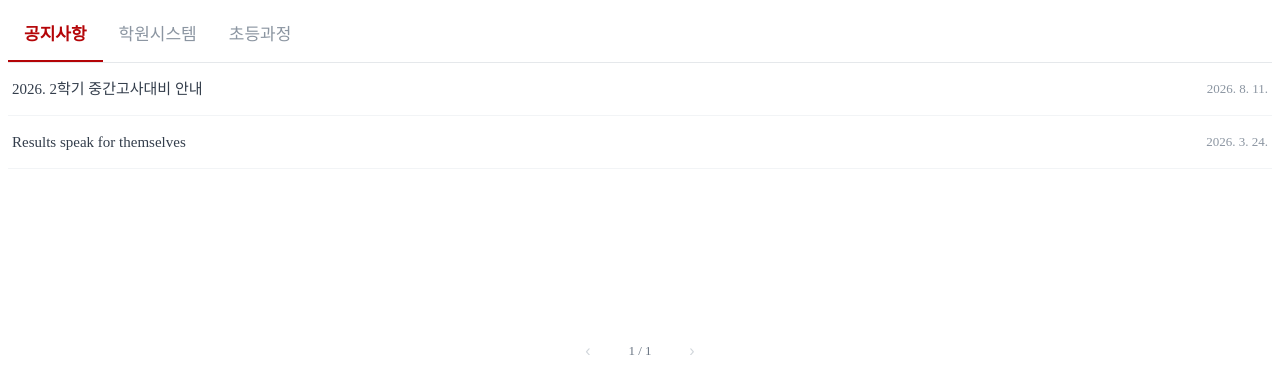
BoardBrowser › says so when a board has no posts yet
Click the tab "초등과정" at (260, 35), box [213,8,307,62]
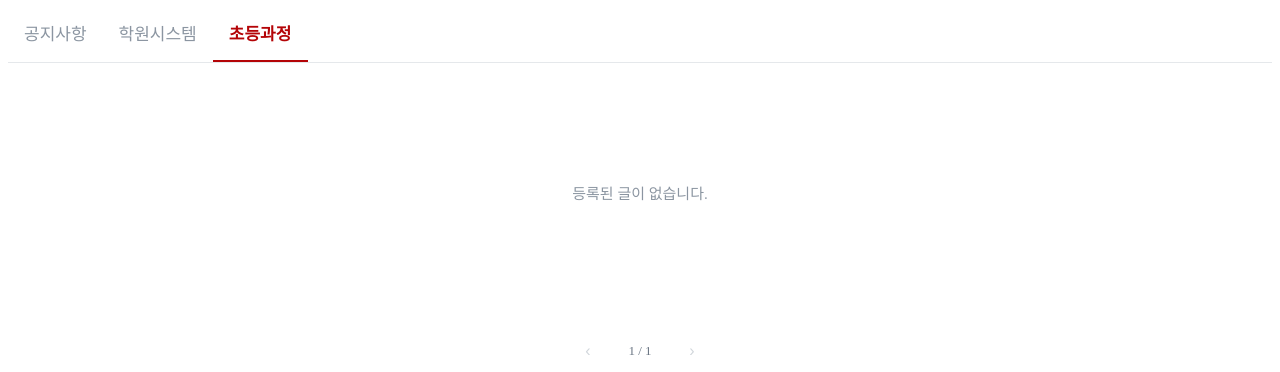
Expected: the text "등록된 글이 없습니다." is shown, [572,186,708,202]
